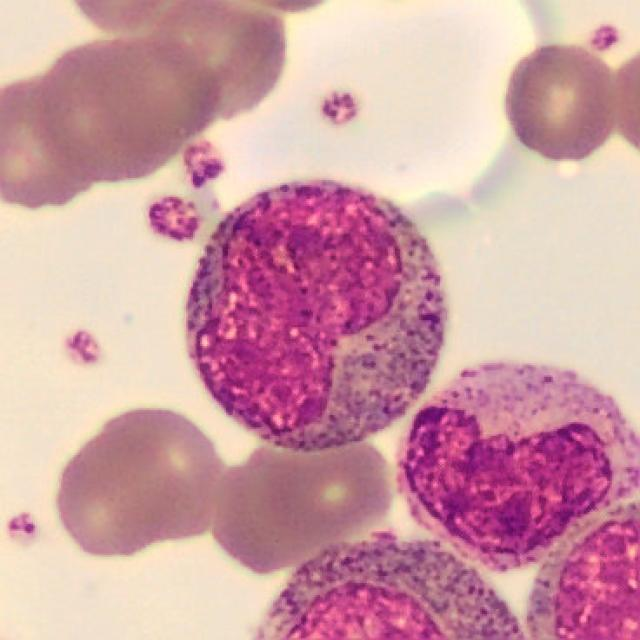Metamielocito: (190, 182, 442, 446), (398, 363, 638, 569)
